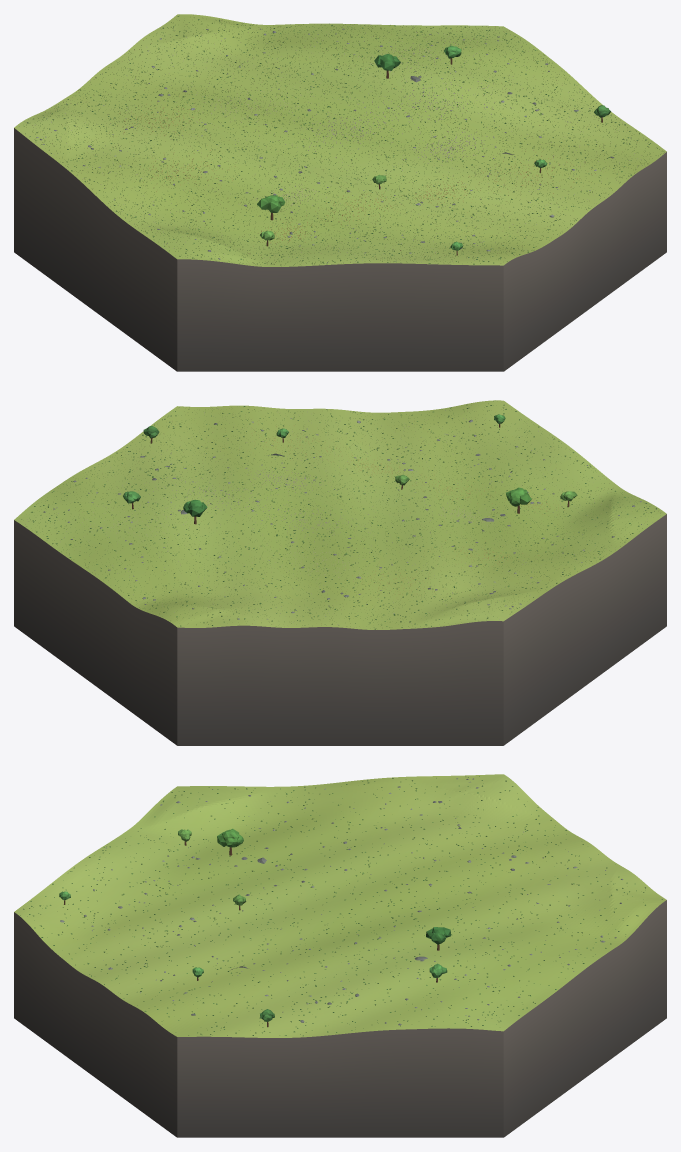
3 renders of one model, top to bottom at view 1: azimuth 30°, elevation 25°; view 2: azimuth 150°, elevation 25°; view 3: azimuth 270°, elevation 25°, orthographic.
Parts seen in each view (by area): view 1: terrain, hex_side_cut, wildflowers, shrubs, broadleaf_canopy, boulders; view 2: terrain, hex_side_cut, wildflowers, shrubs, broadleaf_canopy, boulders; view 3: terrain, hex_side_cut, shrubs, broadleaf_canopy, boulders.
Part boxes in pixels (bbox=[...]): terrain: bbox=[14, 14, 666, 266]; hex_side_cut: bbox=[14, 128, 666, 371]; wildflowers: bbox=[19, 14, 664, 265]; shrubs: bbox=[27, 16, 657, 264]; broadleaf_canopy: bbox=[257, 45, 610, 250]; boulders: bbox=[36, 25, 614, 263]; terrain: bbox=[14, 400, 666, 629]; hex_side_cut: bbox=[14, 514, 666, 745]; wildflowers: bbox=[21, 400, 660, 628]; shrubs: bbox=[21, 401, 656, 629]; broadleaf_canopy: bbox=[123, 414, 577, 516]; boulders: bbox=[43, 408, 641, 619]; terrain: bbox=[14, 774, 666, 1037]; hex_side_cut: bbox=[14, 900, 666, 1137]; shrubs: bbox=[20, 776, 662, 1036]; broadleaf_canopy: bbox=[59, 828, 450, 1021]; boulders: bbox=[60, 778, 622, 1025].
Bounding box in the file's own units: 4330 × 1159 × 5000.
